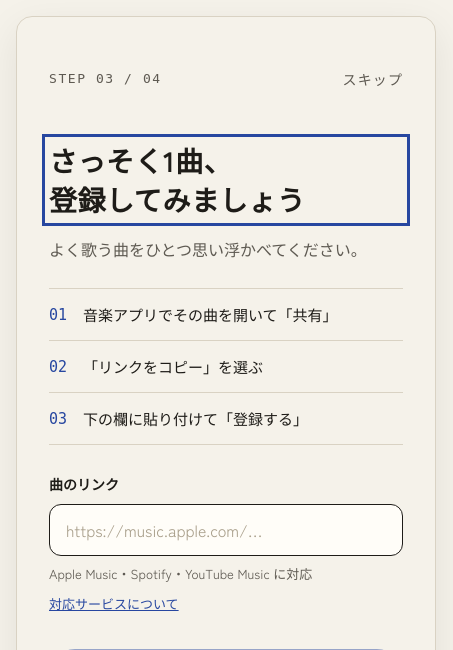
Test case: Tutorial › 1曲登録：失敗したら理由とヘルプへのリンクを出してその場に留まる
Type "https://example.com" into the field labelled "曲のリンク" at {"x": 226, "y": 530}, box left=49, top=504, right=403, bottom=556
Then press Enter
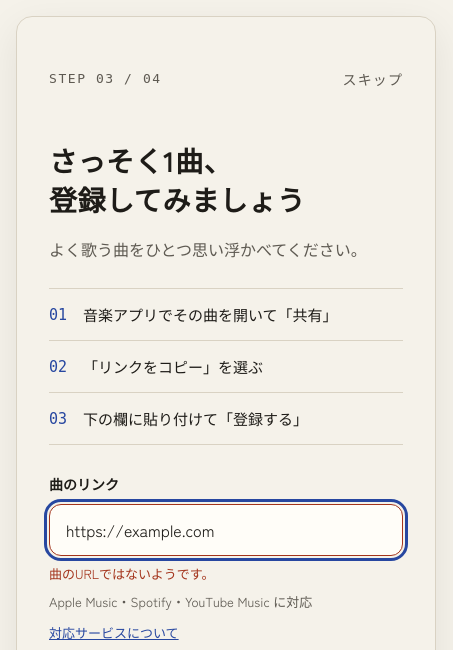
expect the text "曲のURLではないようです。" is shown: met, box left=49, top=564, right=214, bottom=583
